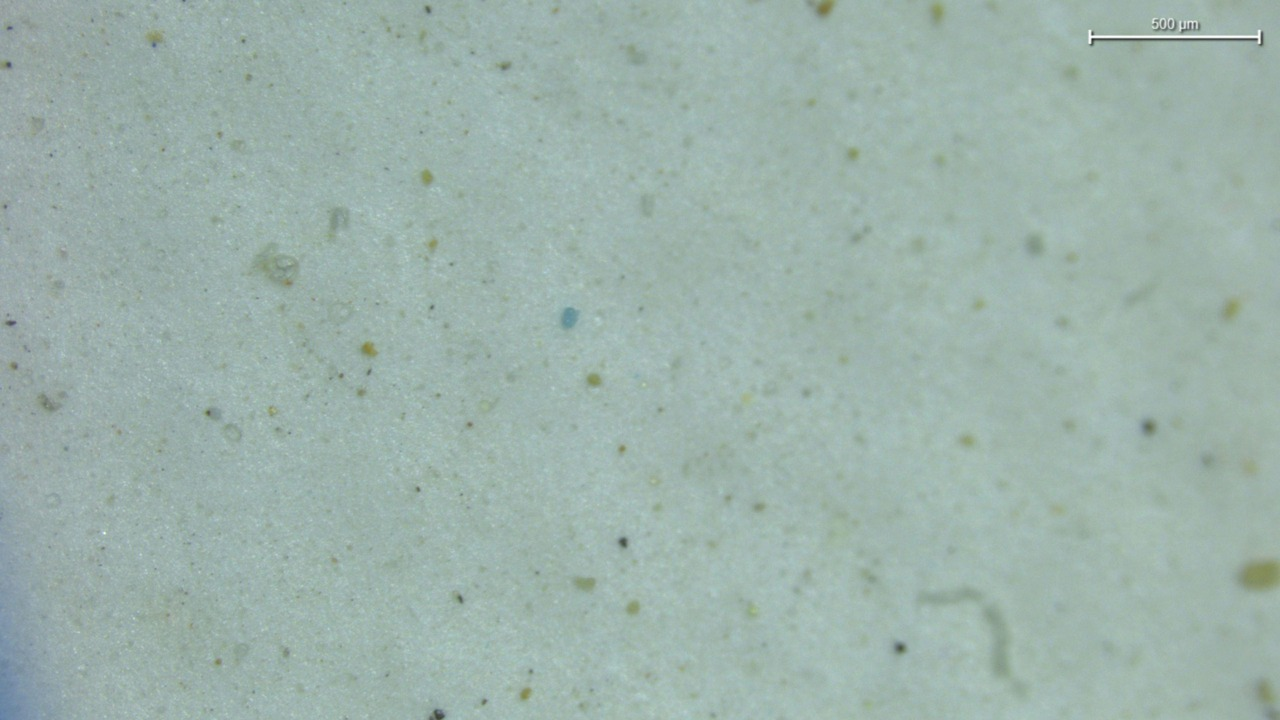microplastic_fragment: (561, 307, 578, 329)
